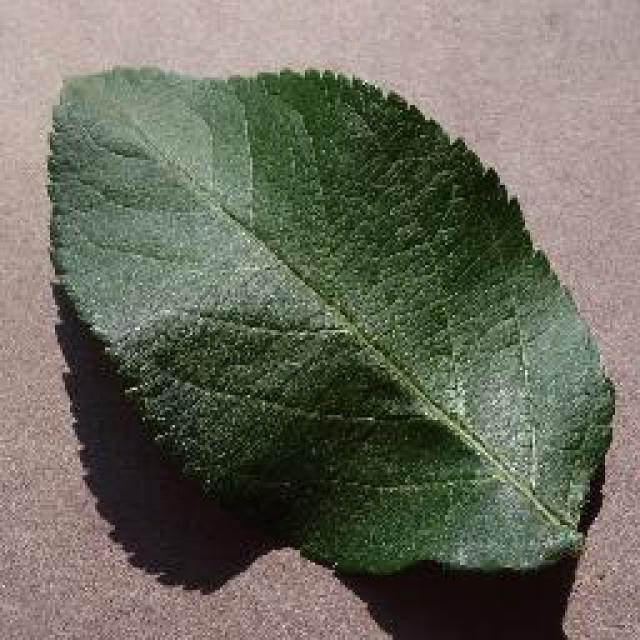apple healthy: (42, 60, 618, 580)
